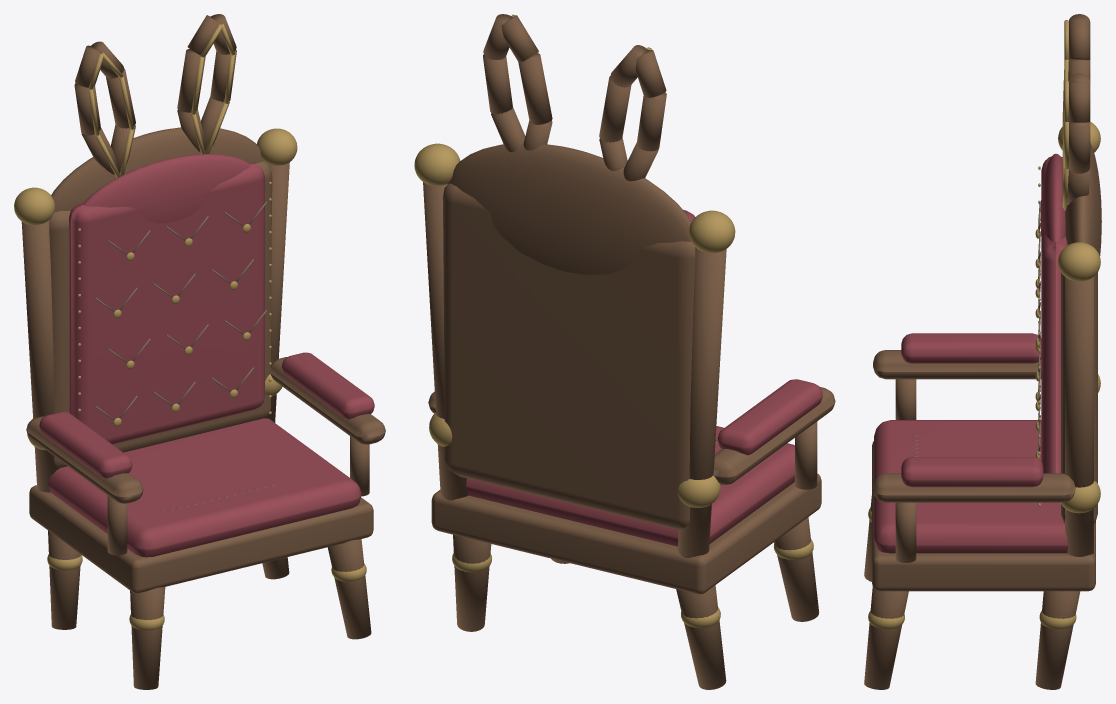
The model's file is birthday-throne.glb.
3 views of the same model, side by side, from view 1: azimuth 30°, elevation 25°; view 2: azimuth 150°, elevation 25°; view 3: azimuth 270°, elevation 25° (orthographic). The views are drawn at different scales.
Visible parts, largest first — view 1: Faded mulberry velvet, Carved dark walnut, Tarnished brass trim, Exposed coarse seams; view 2: Carved dark walnut, Faded mulberry velvet, Tarnished brass trim; view 3: Carved dark walnut, Faded mulberry velvet, Tarnished brass trim, Exposed coarse seams.
Boxes of the visible parts, box(x1,y1,x2,y2) form: Faded mulberry velvet: box(39, 154, 374, 557); Carved dark walnut: box(21, 14, 385, 689); Tarnished brass trim: box(14, 23, 366, 630); Exposed coarse seams: box(94, 202, 274, 512); Carved dark walnut: box(423, 14, 835, 689); Faded mulberry velvet: box(466, 210, 822, 546); Tarnished brass trim: box(414, 14, 813, 627); Carved dark walnut: box(864, 14, 1101, 689); Faded mulberry velvet: box(874, 153, 1068, 553); Tarnished brass trim: box(868, 20, 1100, 629); Exposed coarse seams: box(913, 201, 1040, 456).
Bounding box in the file's own units: 1.72 × 3.32 × 1.22.
